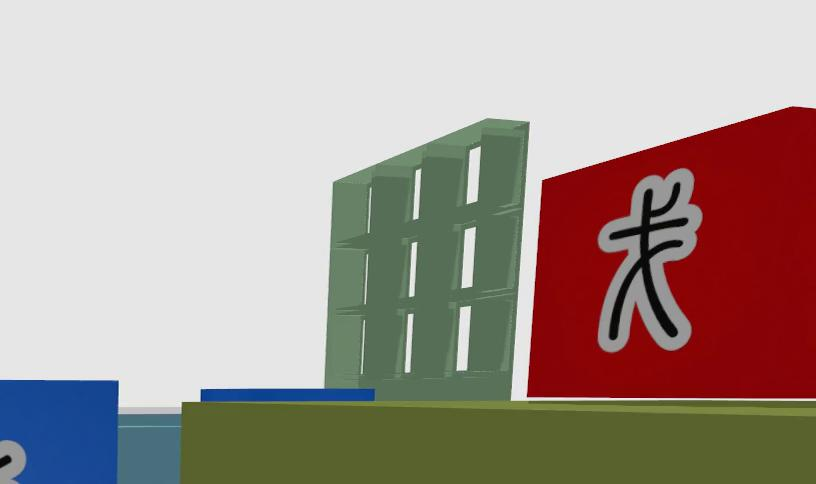KFS_FAKE: (527, 109, 815, 396), (597, 168, 703, 352)
KFS_REAL: (0, 381, 117, 484), (0, 439, 25, 484)
